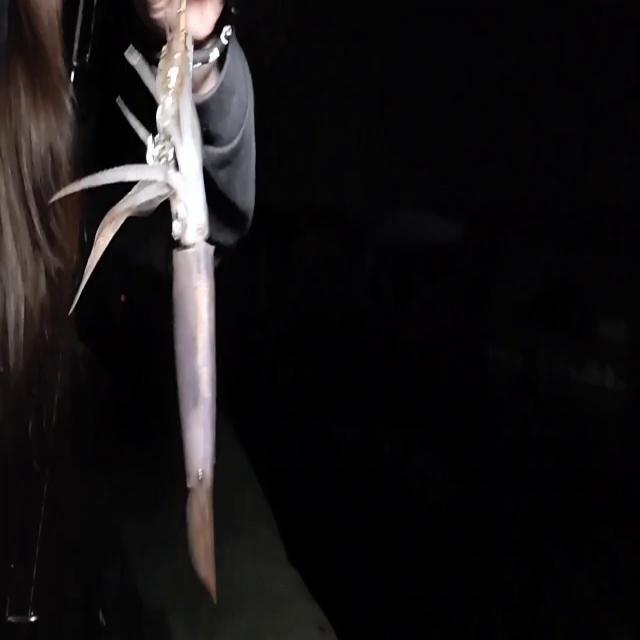squid: (49, 27, 217, 601)
